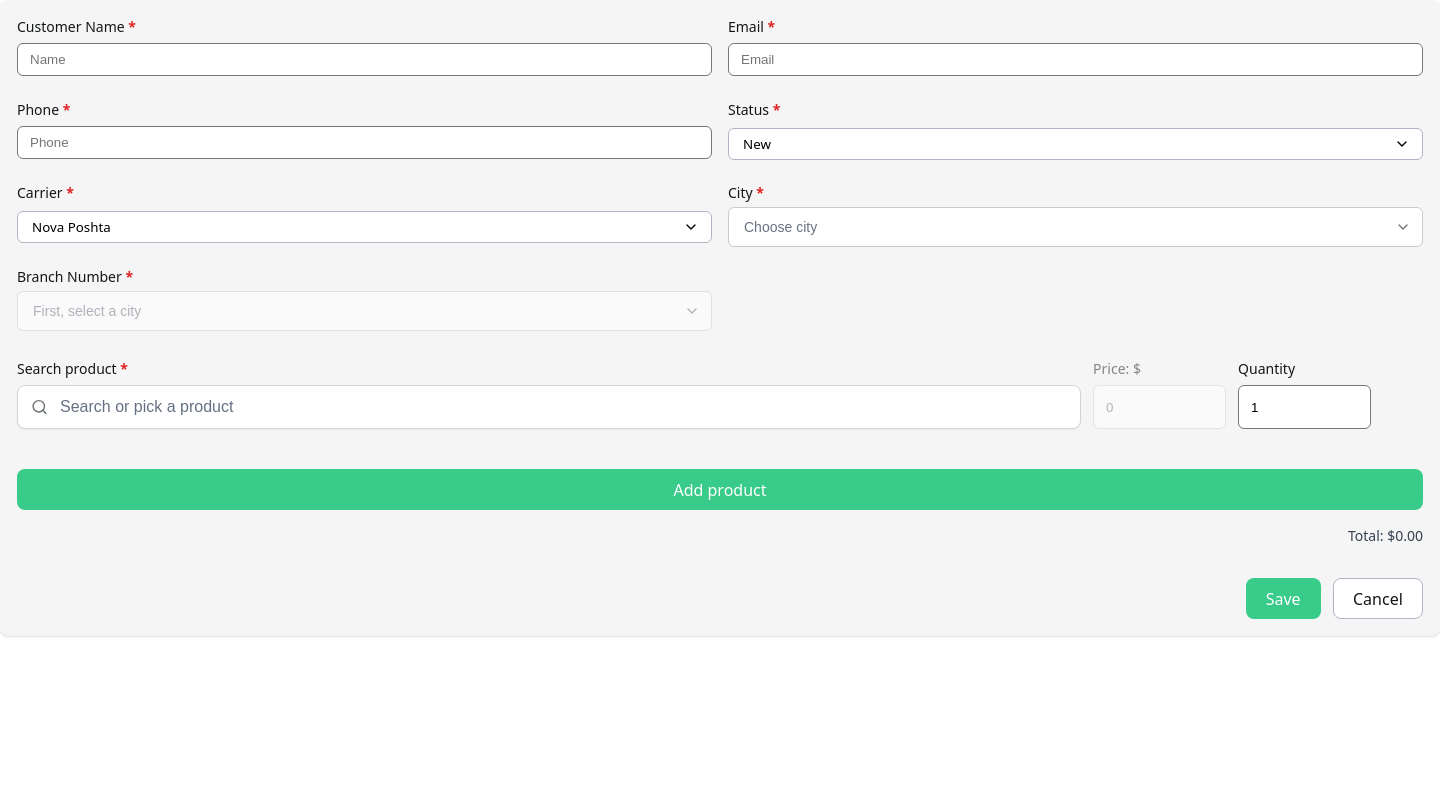
Scenario: Component: AdminOrderForm › shows validation errors for empty form submit
This screenshot has width=1440, height=810.
Click the button "Save" at (1283, 599), box [1246,578,1321,619]
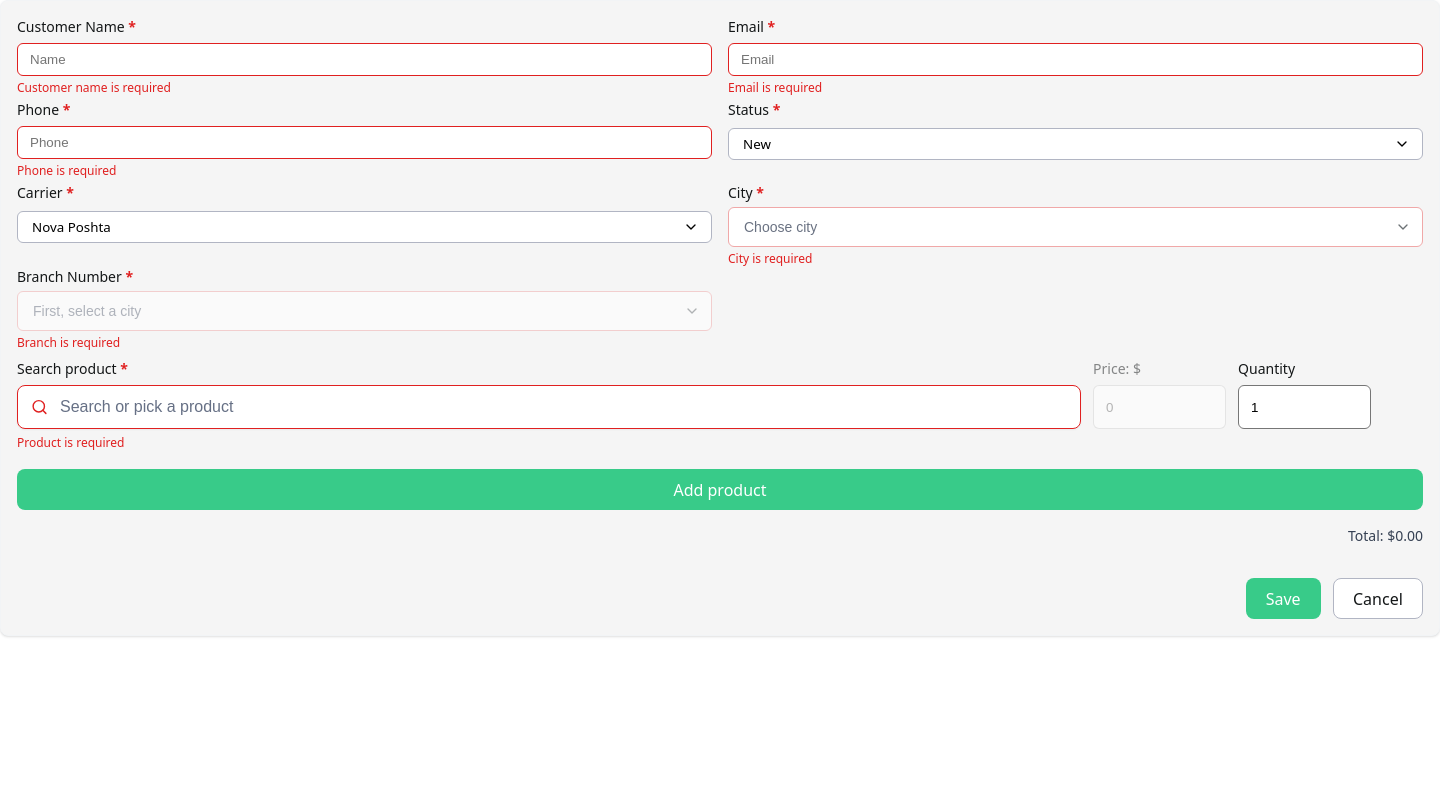
Now the text "Customer name is required" is shown, box [17,79,171,96]
Now the text "Email is required" is shown, box [728,79,822,96]
Now the text "Phone is required" is shown, box [17,162,116,179]
